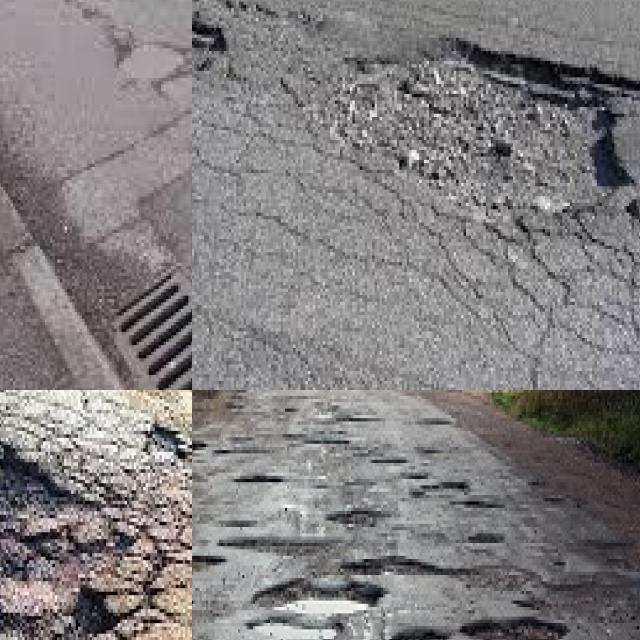Pothole: (372, 54, 640, 221), (0, 442, 122, 640), (345, 559, 640, 613), (253, 585, 370, 620), (215, 533, 334, 556), (462, 620, 564, 640), (413, 479, 492, 501), (325, 508, 381, 530), (268, 623, 330, 640), (468, 527, 507, 543), (236, 473, 283, 485), (396, 633, 443, 640)
